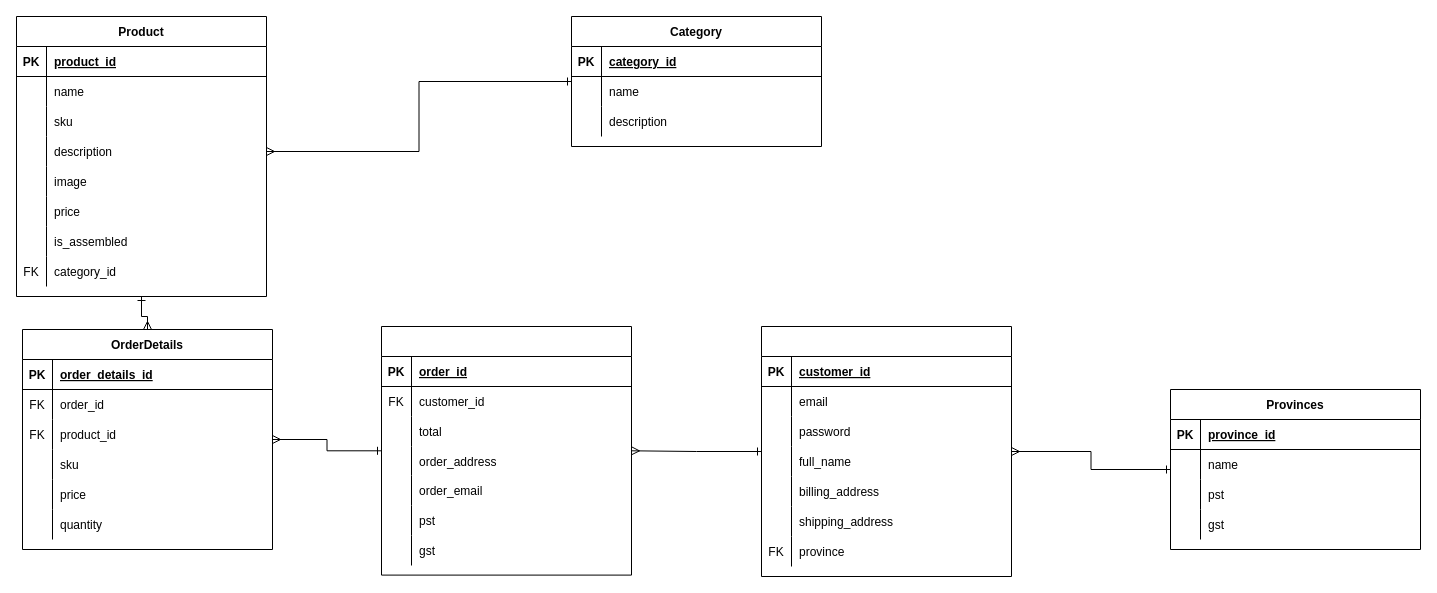
Image size: 1437x593. Some labels were removed from this diagram. The box of each missing label's shape, as (x1, y1, x2, y2) in pixels:
customers: (760, 326, 1012, 576)
Orders: (380, 326, 632, 575)
